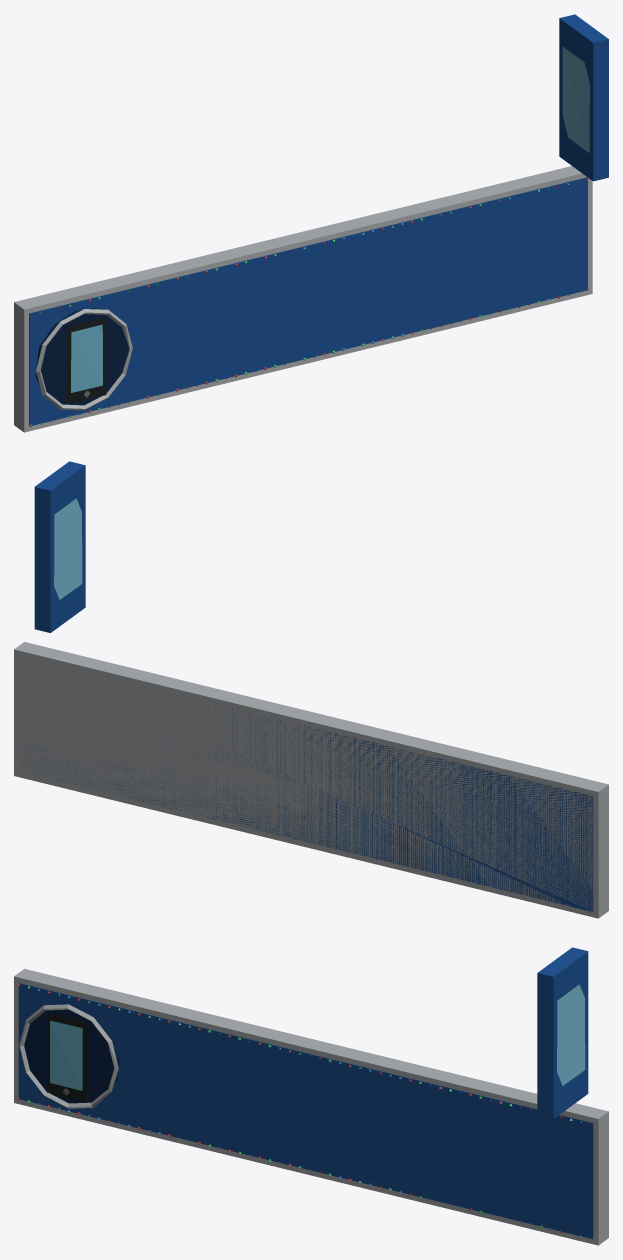
File: bang_sua_dien_thoai_tuan_60.glb
The picture shows the model from 3 angles, top to bottom: view 1: azimuth 30°, elevation 25°; view 2: azimuth 150°, elevation 25°; view 3: azimuth 330°, elevation 25°; orthographic projection. The views are drawn at different scales.
Visible parts, largest first — view 1: bang_sua_dien_thoai_tuan_60; view 2: bang_sua_dien_thoai_tuan_60; view 3: bang_sua_dien_thoai_tuan_60.
Part boxes in pixels (box(x1,y1,x2,y2)): bang_sua_dien_thoai_tuan_60: box(14, 14, 608, 432); bang_sua_dien_thoai_tuan_60: box(14, 461, 608, 918); bang_sua_dien_thoai_tuan_60: box(14, 947, 608, 1245).
Size of the model in its own units: 5.8 by 2.73 by 0.71.
